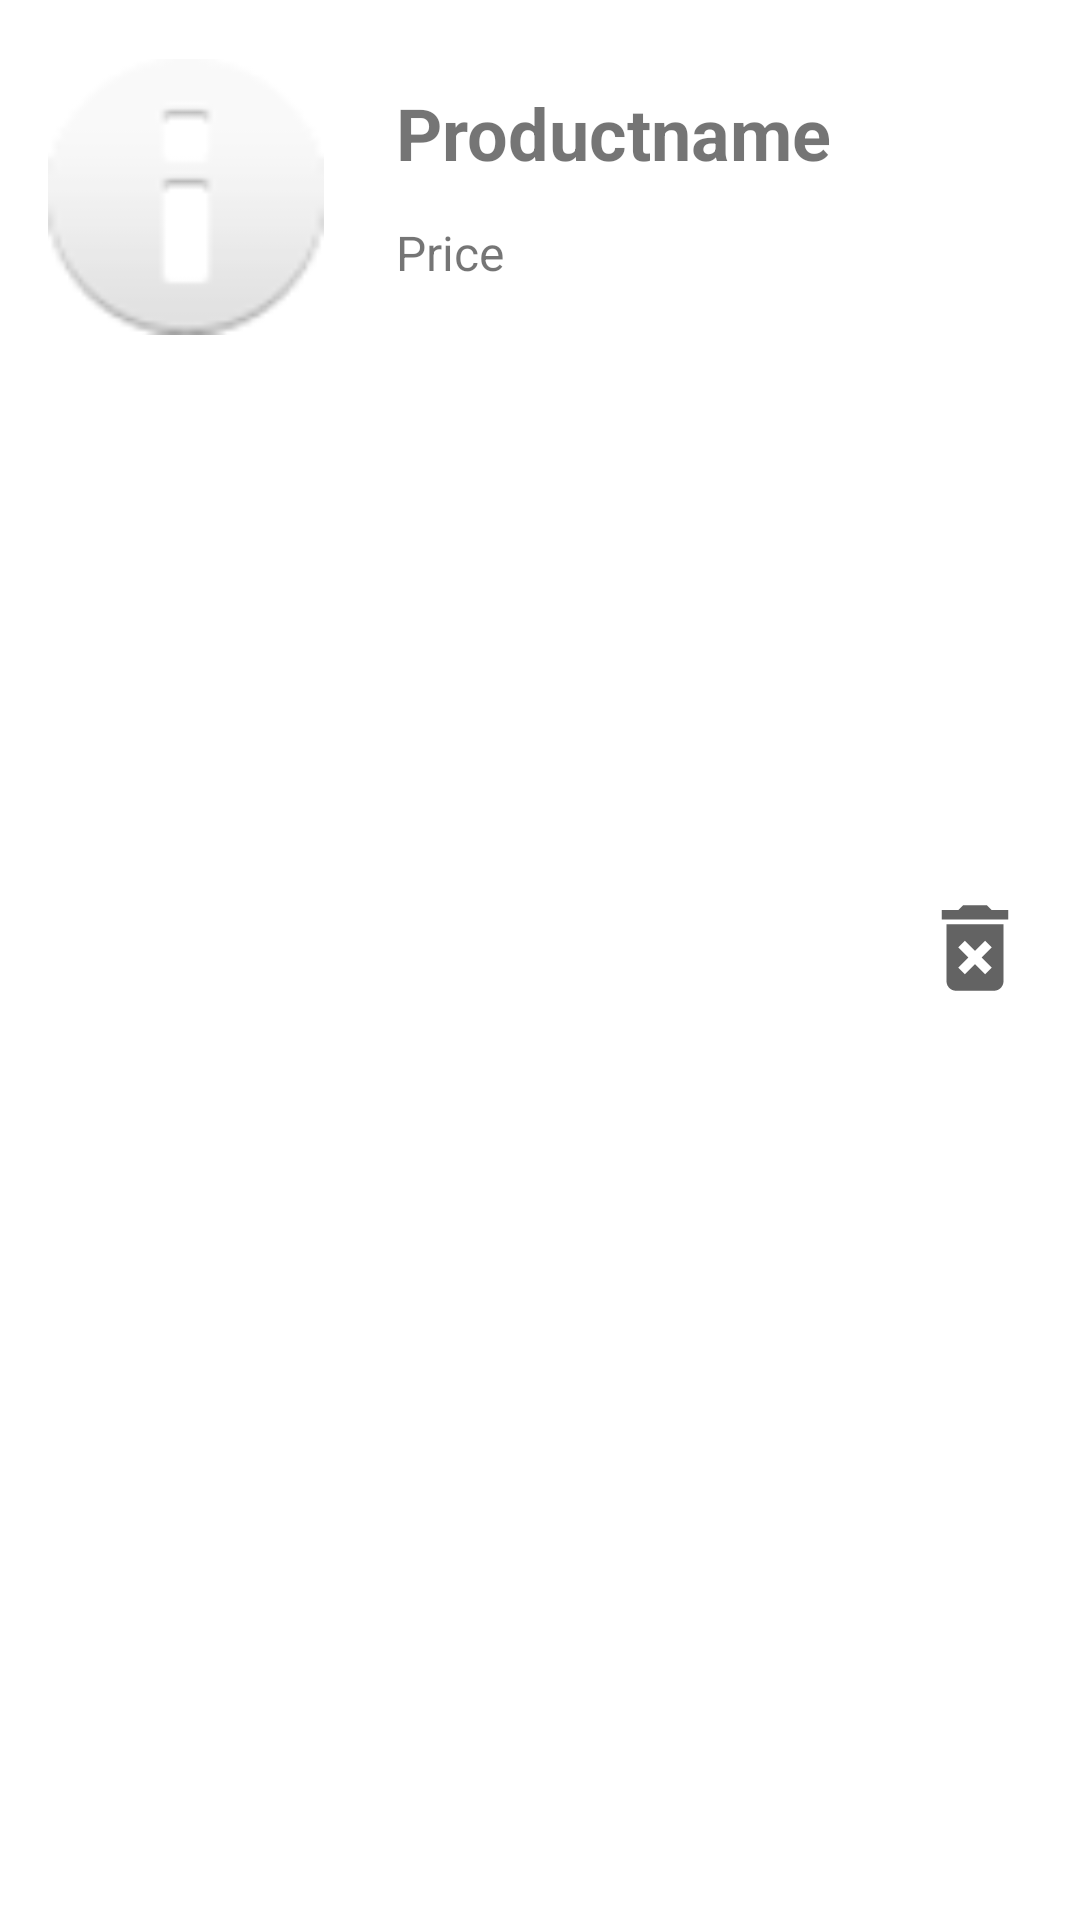

Icons on this 1080×1920 Android screen, each with its box as Rect(x1, y1, x2, y2):
delete forever: Rect(941, 905, 1009, 991)
info: Rect(48, 109, 324, 335)
